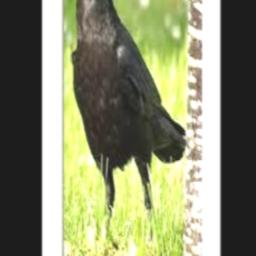Crow: (70, 0, 188, 256)
